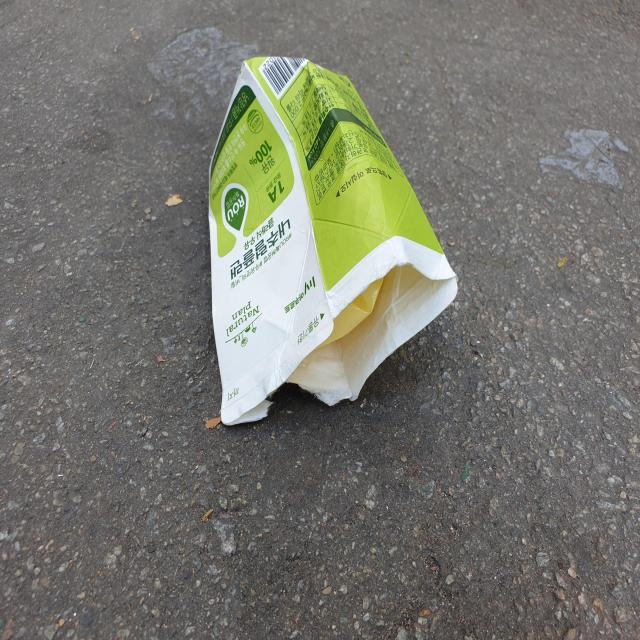paperpack: (209, 56, 458, 425)
